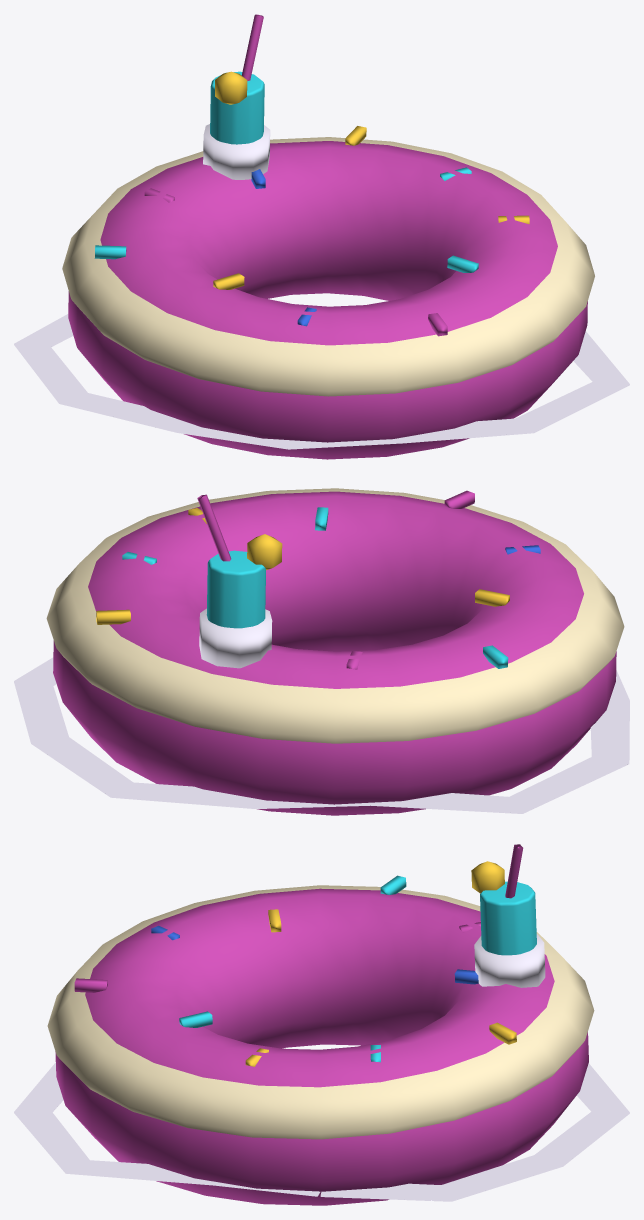
File: pool_float.glb
3 views of the same model, one above another, from view 1: azimuth 30°, elevation 25°; view 2: azimuth 150°, elevation 25°; view 3: azimuth 270°, elevation 25° (orthographic). The views are drawn at different scales.
Parts seen in each view (by area): view 1: Donut, Foam; view 2: Donut, Foam; view 3: Donut, Foam.
Part boxes in pixels (x1,y1,x2,y2): Donut: [62, 14, 594, 459]; Foam: [14, 314, 629, 449]; Donut: [46, 488, 624, 815]; Foam: [14, 657, 629, 813]; Donut: [47, 844, 594, 1205]; Foam: [14, 1062, 629, 1201].
Size of the model in its own units: 0.9374 by 0.5064 by 0.9683.
